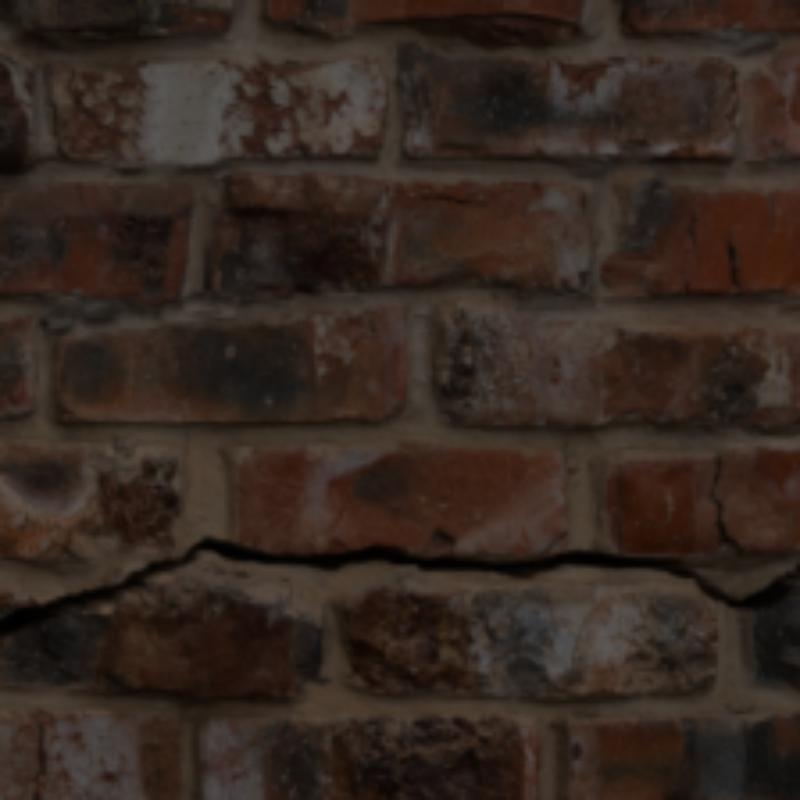pothole: (0, 539, 796, 636), (707, 457, 736, 550)
